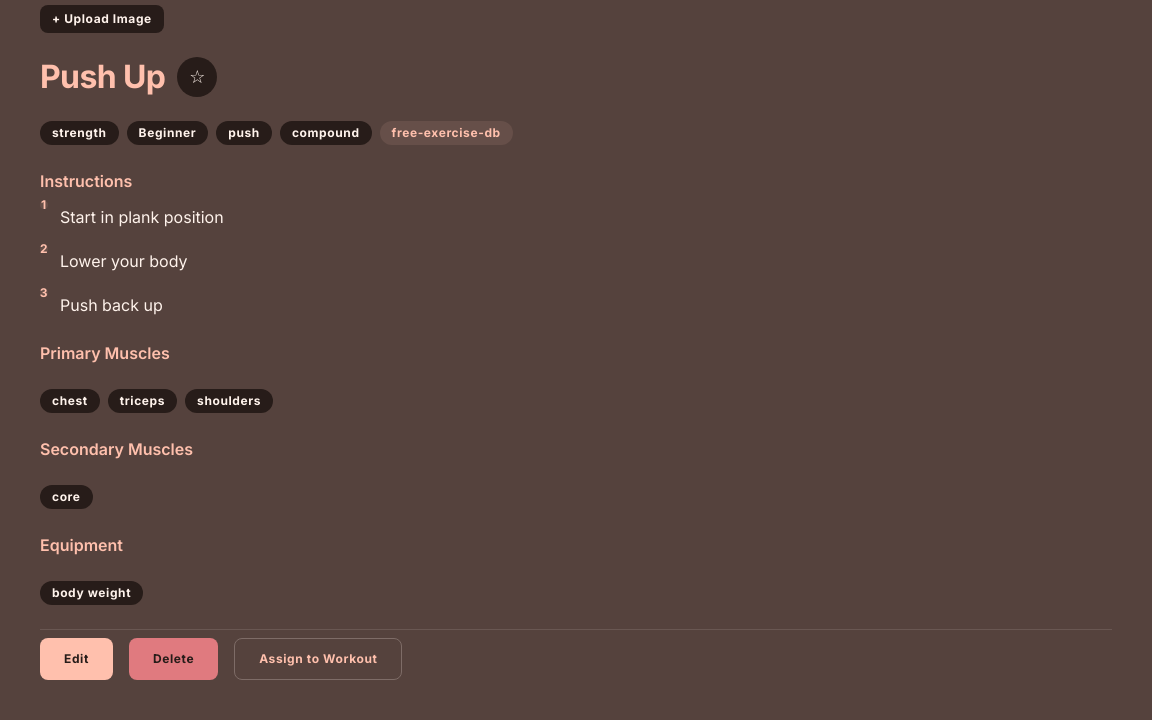
ExerciseDetailPage › opens Assign to Workout modal on button click
The image size is (1152, 720).
(page scrolled)
Click the button "Assign to Workout" at coordinates (318, 659), box [234,638,402,680]
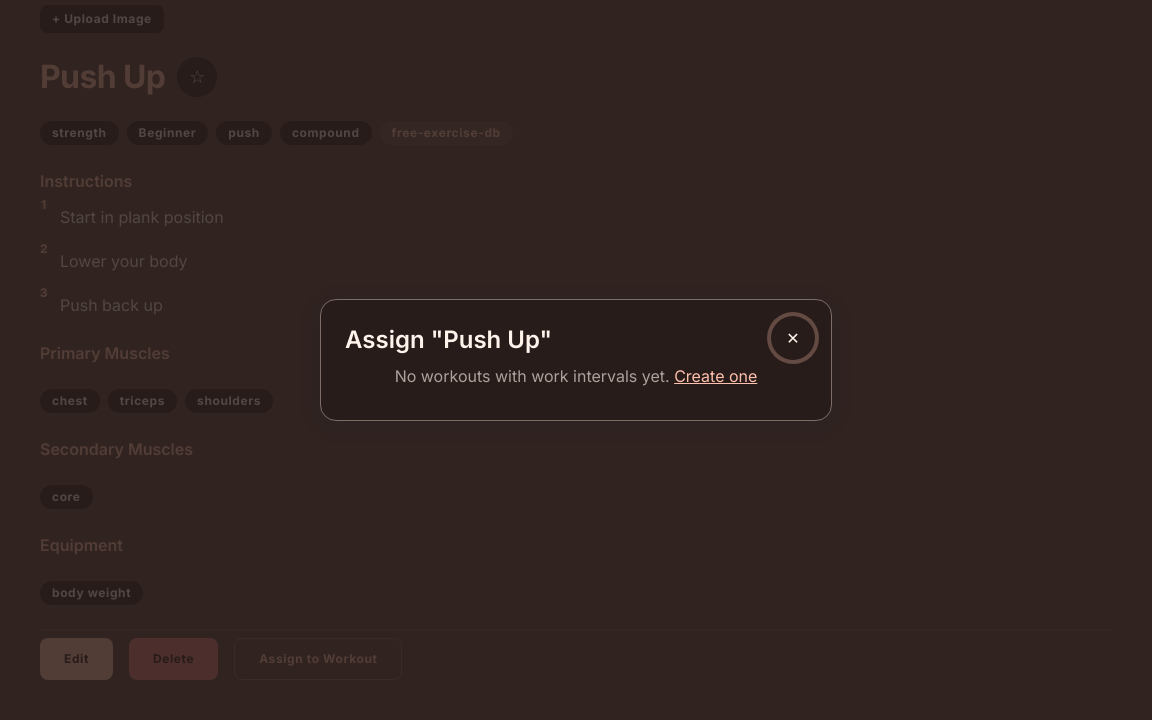
Now the heading "Assign \"Push Up\"" is shown, box [345,325,552,354]
